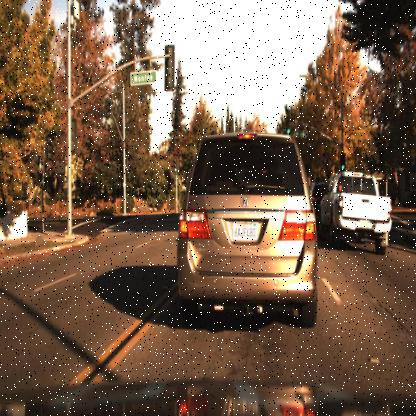car: (176, 130, 316, 326), (319, 169, 392, 254)
trafficLight-Green: (339, 152, 348, 173)
